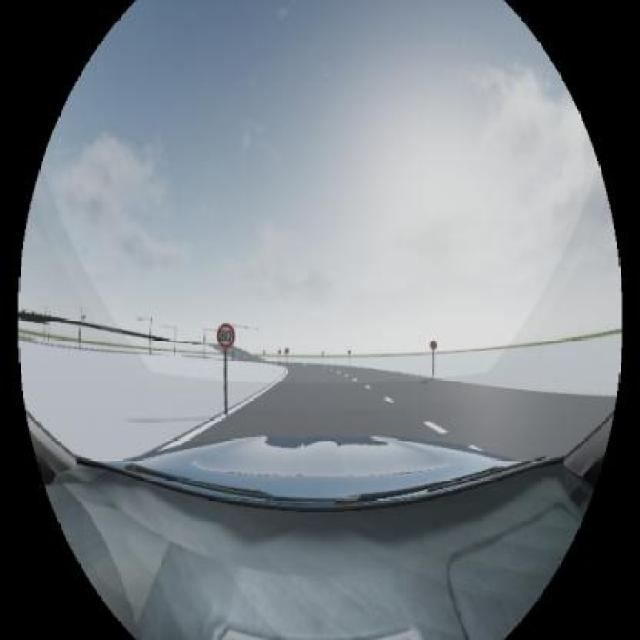forb_speed_over_80: (218, 324, 235, 348)
